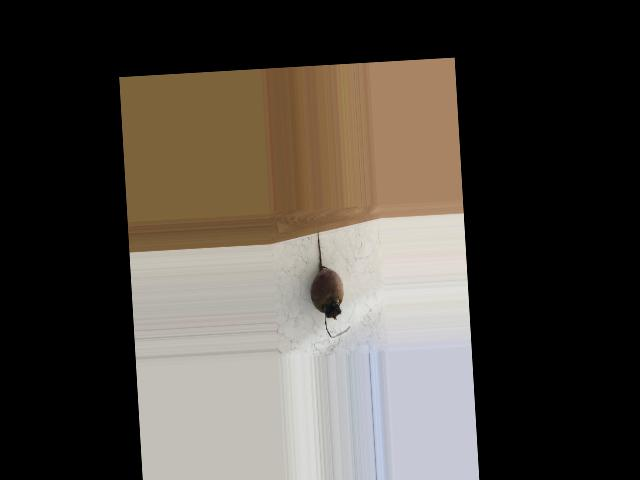beet: (306, 228, 350, 338)
